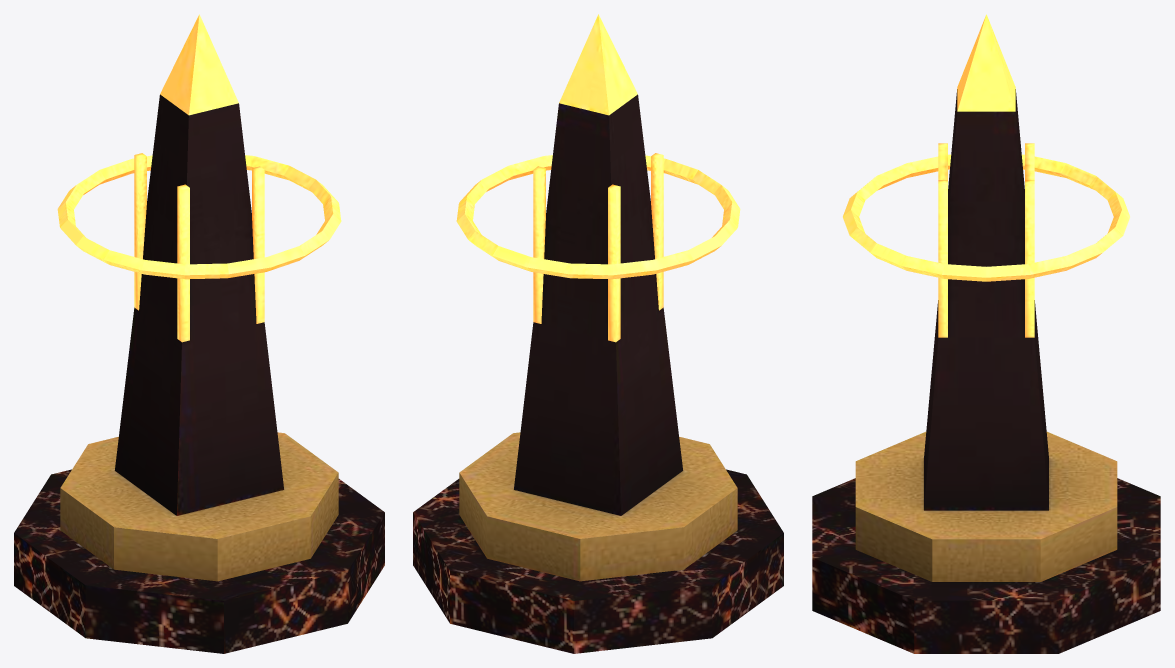
The model's file is pylon_fire.glb.
The picture shows the model from 3 angles, left to right: view 1: azimuth 30°, elevation 25°; view 2: azimuth 150°, elevation 25°; view 3: azimuth 270°, elevation 25°; orthographic projection.
Parts seen in each view (by area): view 1: pylon_fire; view 2: pylon_fire; view 3: pylon_fire.
Part boxes in pixels (x1,y1,x2,y2): pylon_fire: [14, 14, 384, 653]; pylon_fire: [413, 14, 783, 653]; pylon_fire: [812, 14, 1160, 653].
Bounding box in the file's own units: 2.96 × 5.3 × 2.96.
Materials: 1 (1 with a texture image).
